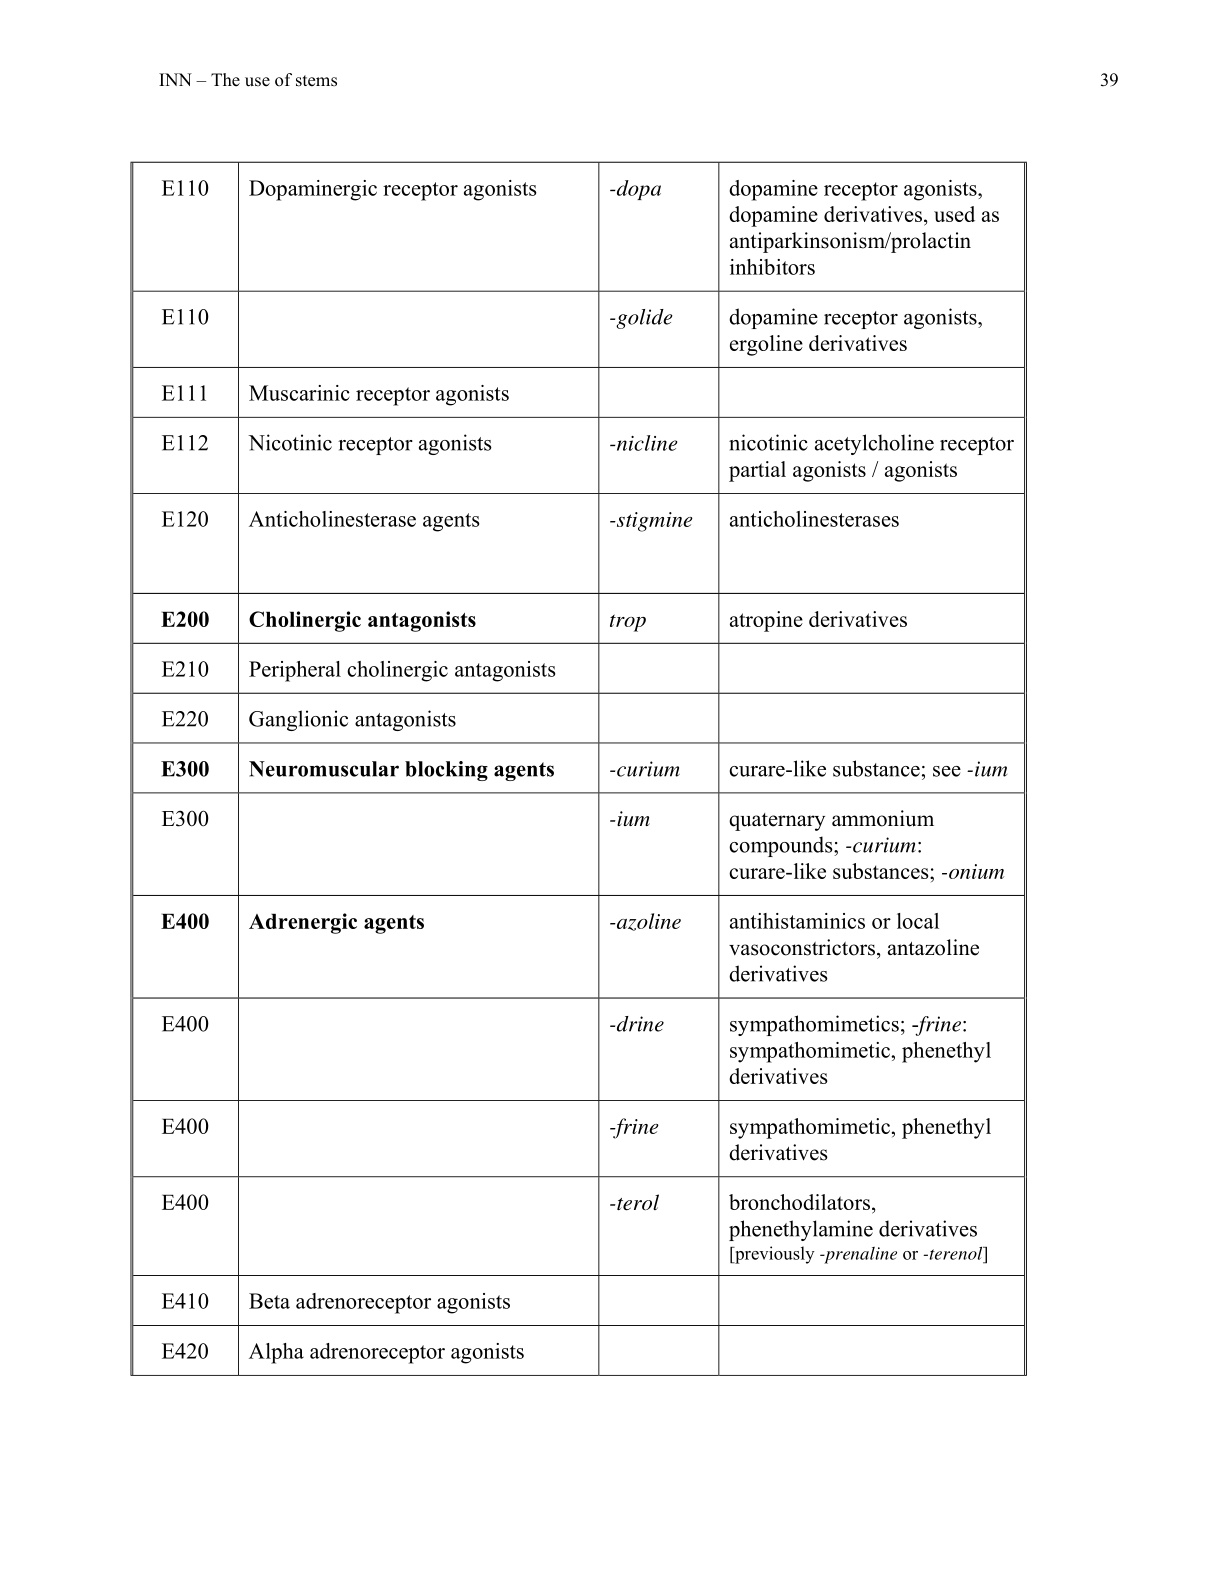full_lined: (130, 161, 1027, 1377)
